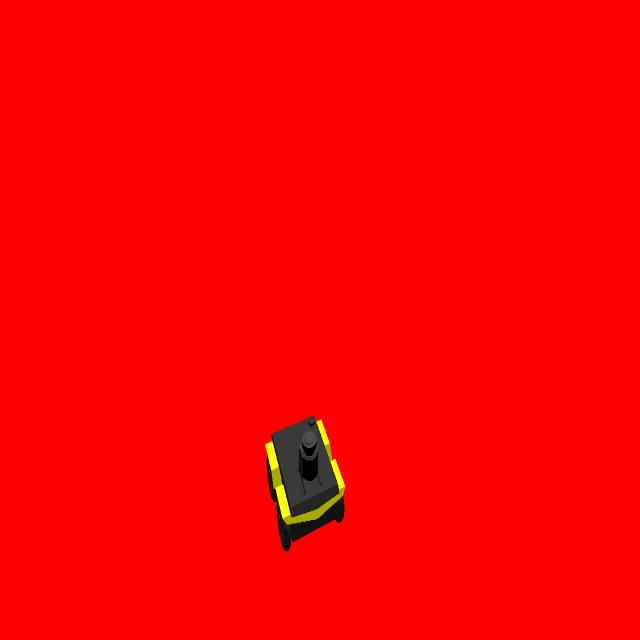jackal: (265, 406, 346, 554)
